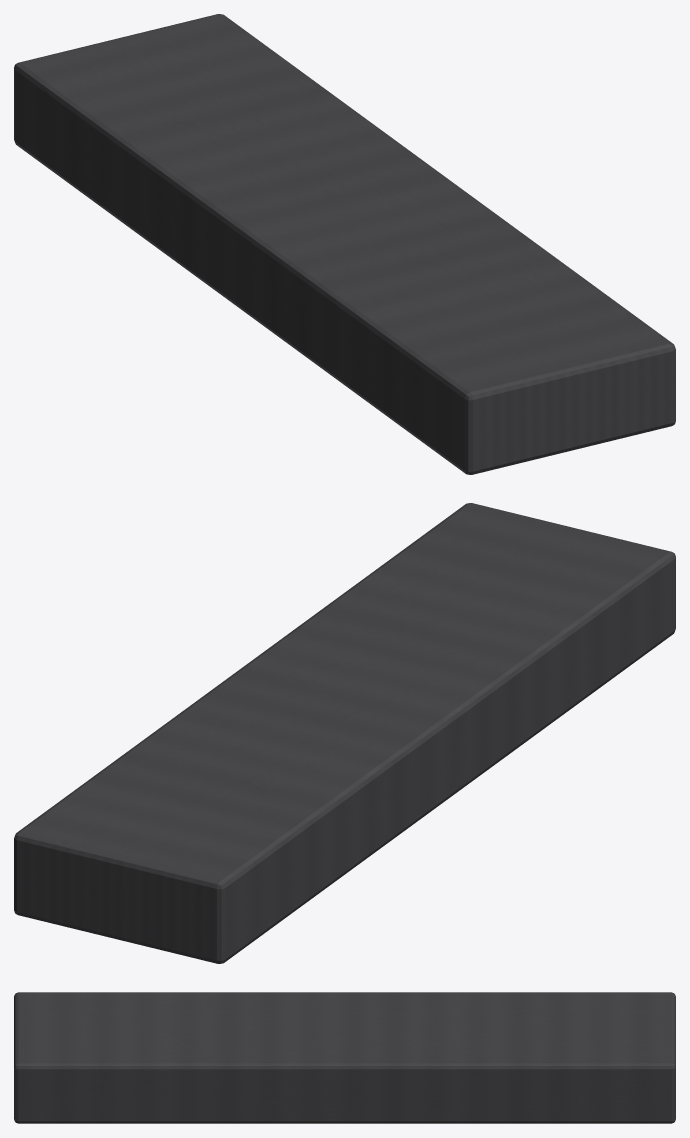
The model's file is corridor_light.glb.
3 views of the same model, one above another, from view 1: azimuth 30°, elevation 25°; view 2: azimuth 150°, elevation 25°; view 3: azimuth 270°, elevation 25° (orthographic). The views are drawn at different scales.
Parts seen in each view (by area): view 1: fixture; view 2: fixture; view 3: fixture.
Boxes of the visible parts, x1,y1,x2,y2 form: fixture: (14, 14, 675, 474); fixture: (14, 503, 675, 963); fixture: (14, 992, 675, 1123).
Bounding box in the file's own units: 0.32 × 0.128 × 1.2.
Materials: 2 (1 with a texture image).
